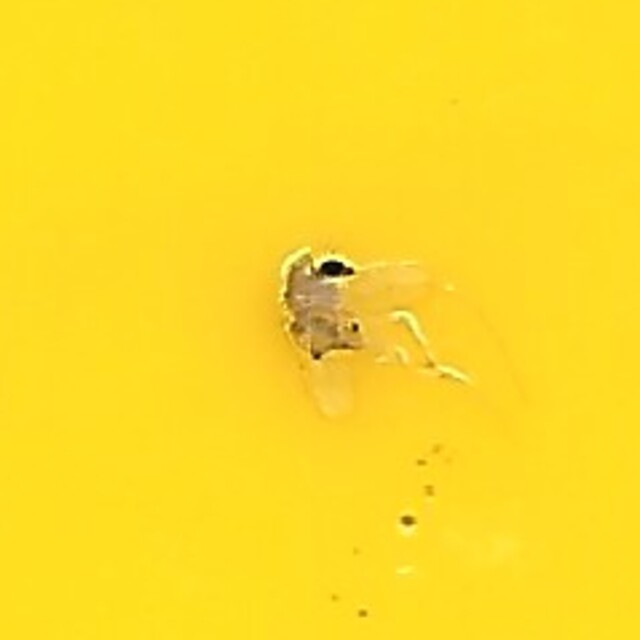Nematocera: (268, 257, 372, 383)
